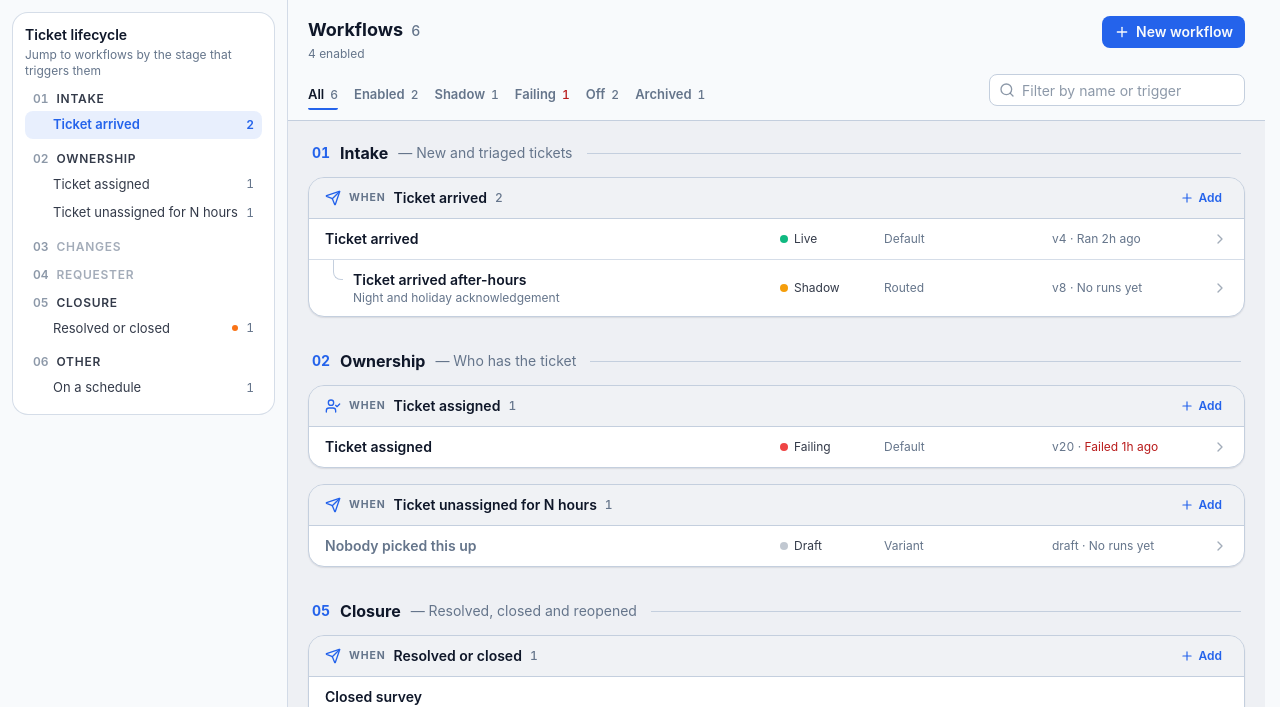
Test case: Mail Workflows list page › nothing matches → says so
Type "zzz" into the search field labelled "Filter by name or trigger" at (1117, 90), box [989,74,1245,106]
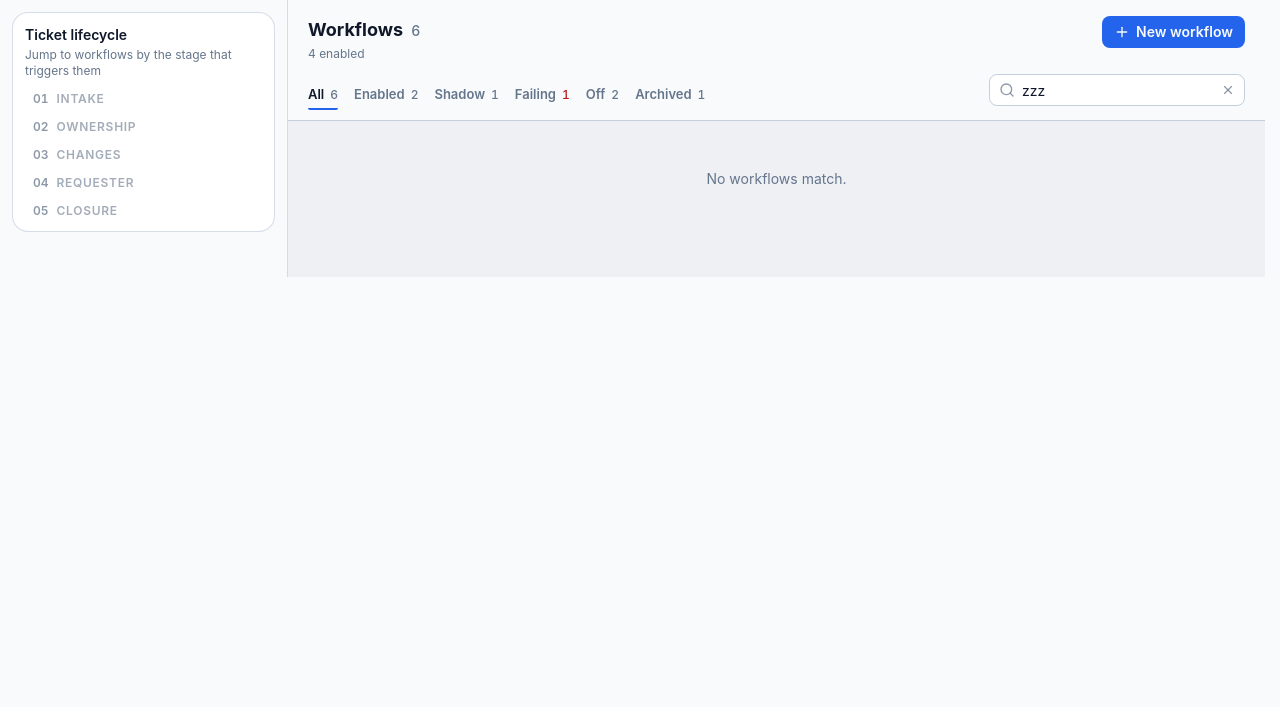
Expected: the text "No workflows match." is shown, [706,170,846,187]
